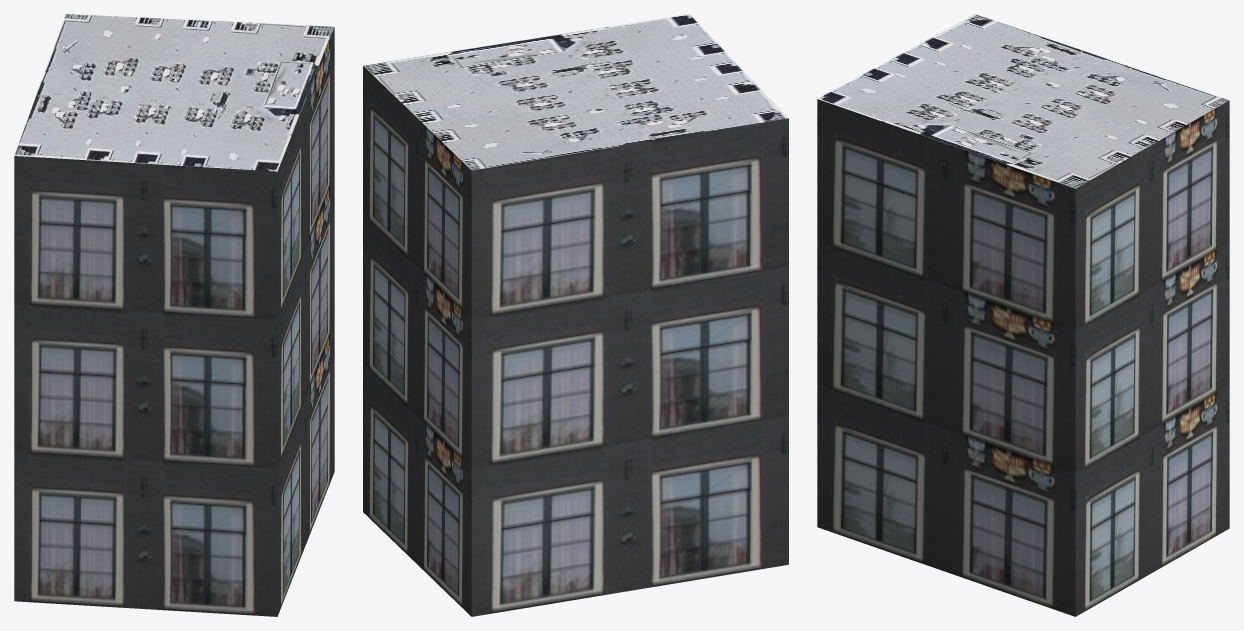
Rendered from ResTex__5162.fbx.
3 renders of one model, left to right at view 1: azimuth 30°, elevation 25°; view 2: azimuth 150°, elevation 25°; view 3: azimuth 270°, elevation 25°, orthographic. The views are drawn at different scales.
Visible parts, largest first — view 1: CityEngineMaterial_22_m, CityEngineMaterial_4_m; view 2: CityEngineMaterial_22_m, CityEngineMaterial_4_m; view 3: CityEngineMaterial_22_m, CityEngineMaterial_4_m.
Boxes of the visible parts, box(x1,y1,x2,y2) form: CityEngineMaterial_22_m: box(14, 27, 334, 616); CityEngineMaterial_4_m: box(14, 14, 334, 171); CityEngineMaterial_22_m: box(363, 66, 788, 616); CityEngineMaterial_4_m: box(363, 14, 788, 170); CityEngineMaterial_22_m: box(817, 99, 1229, 616); CityEngineMaterial_4_m: box(818, 14, 1228, 188).
Bounding box in the file's own units: 7.88 × 9 × 7.85.
Materials: 2 (2 with a texture image).
